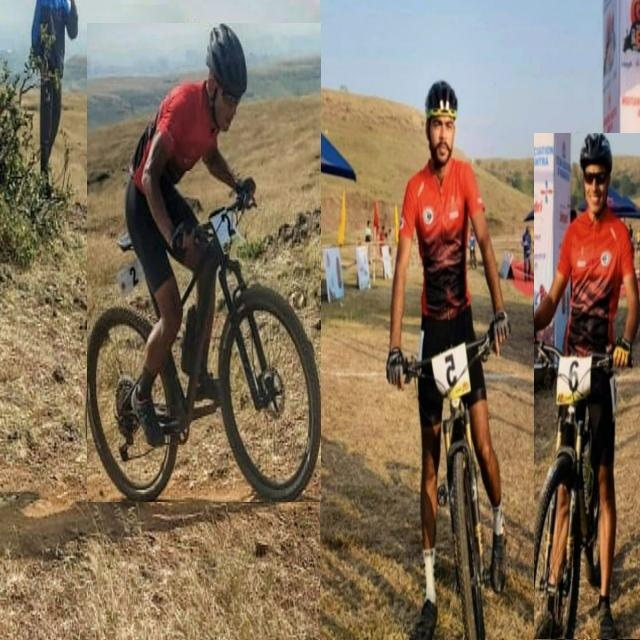bicycle: (87, 23, 320, 502), (386, 82, 510, 640), (534, 133, 640, 639)
